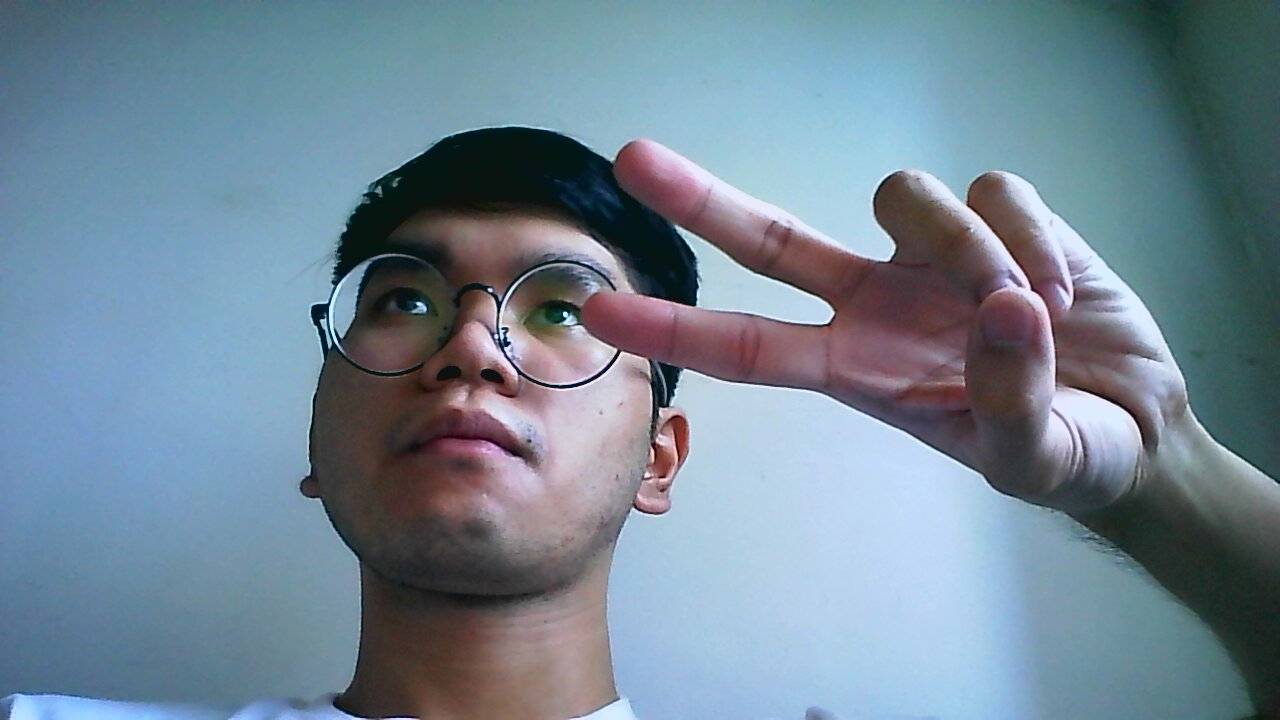peace: (582, 139, 1193, 522)
